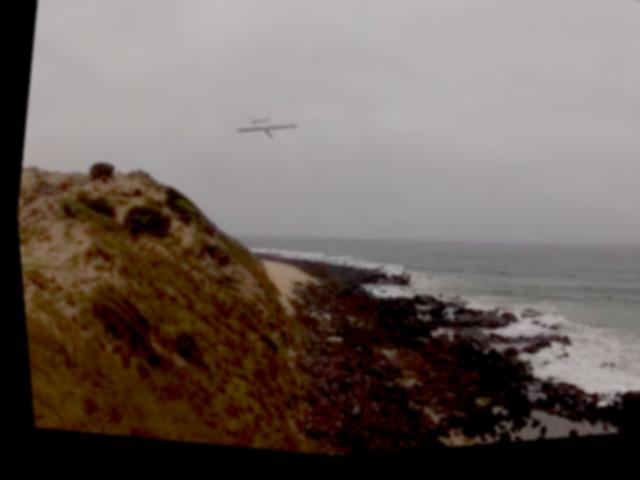uav: (224, 99, 308, 163)
